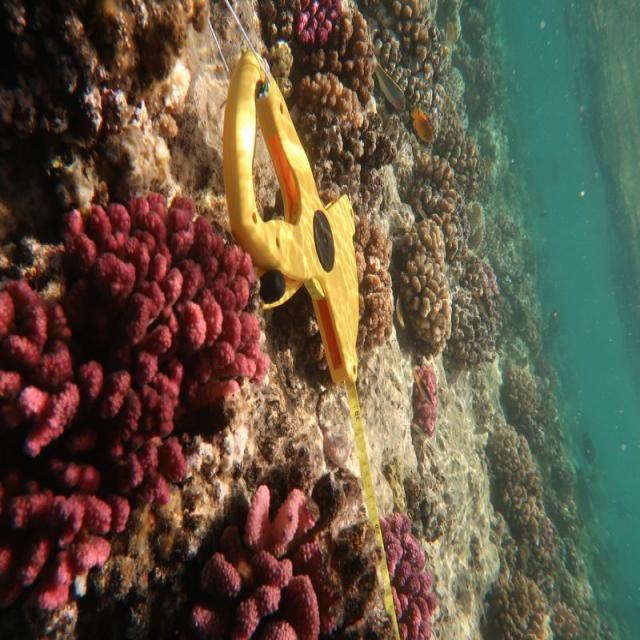Healthy Coral: (2, 190, 279, 607), (197, 462, 332, 640), (381, 515, 445, 640), (410, 364, 443, 438), (289, 0, 330, 41)
